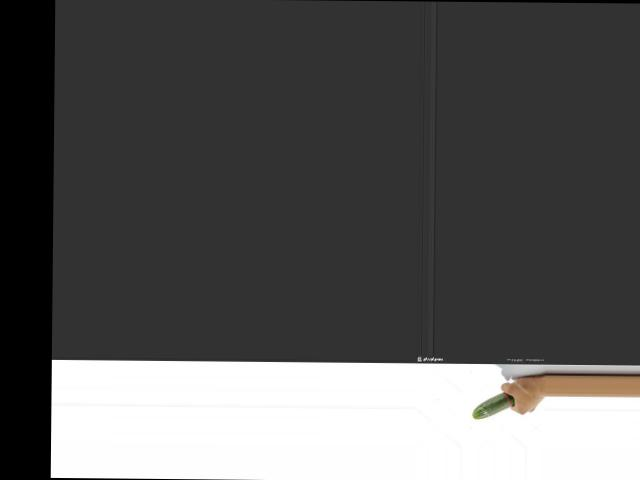cucumber: (472, 392, 515, 419)
